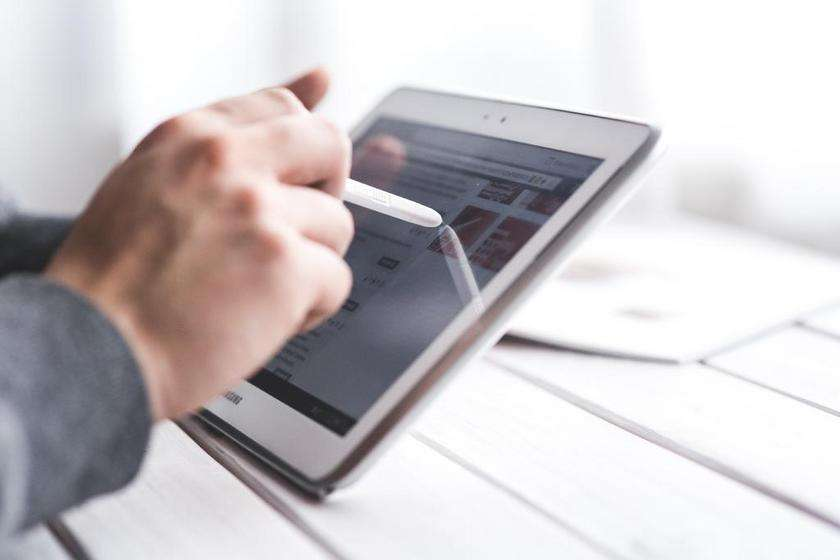pad: (49, 61, 665, 519)
